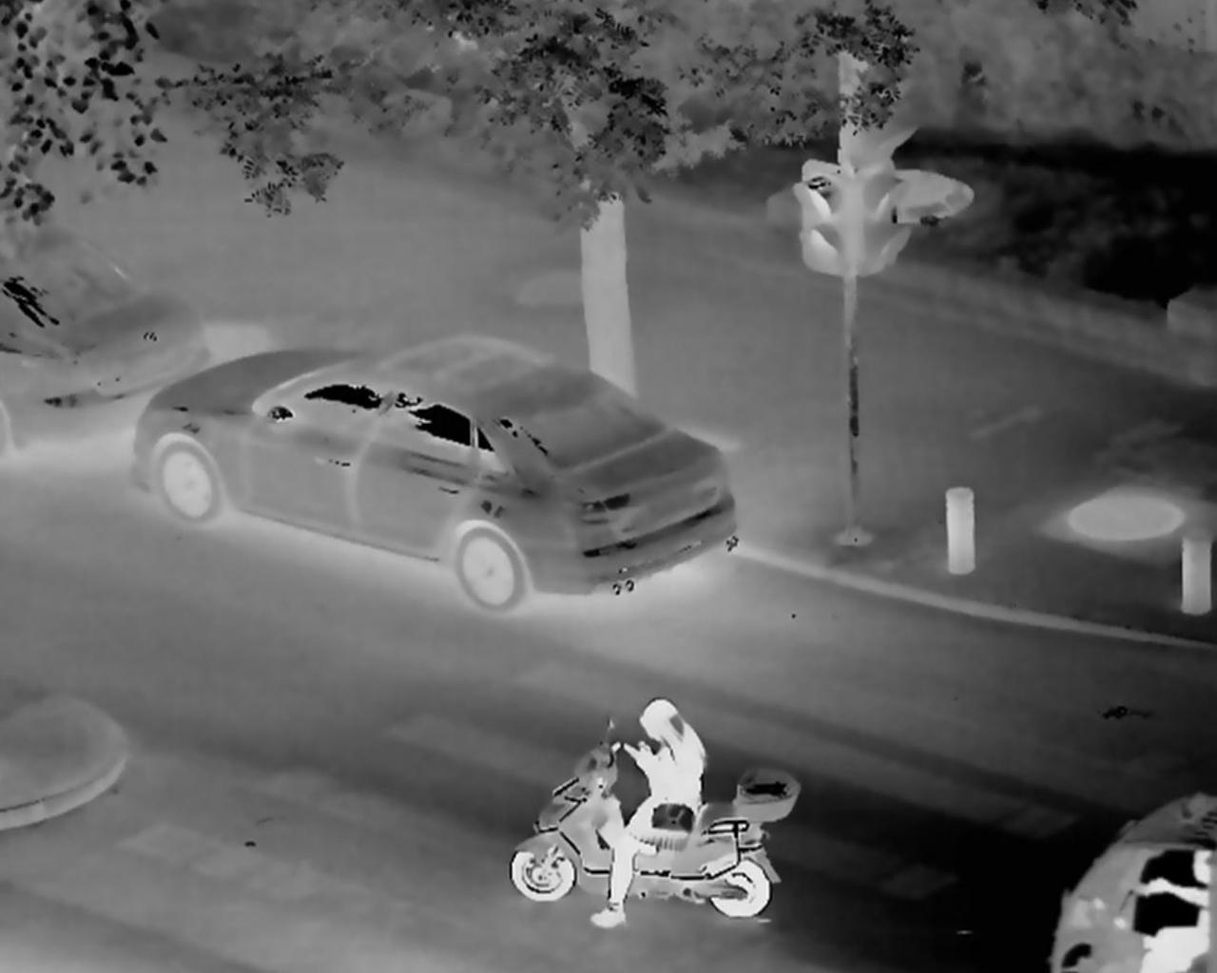person: (607, 698, 702, 937)
